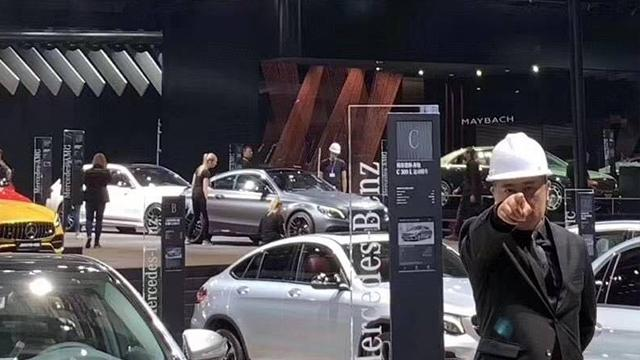helmet: (488, 135, 559, 184), (329, 141, 344, 156)
